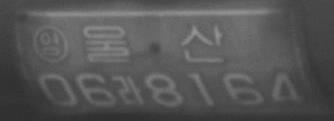0: (37, 71, 77, 108)
1: (184, 71, 217, 106)
4: (270, 70, 306, 106)
6: (222, 71, 265, 106), (78, 71, 116, 106)
8: (147, 72, 183, 107)
라: (116, 73, 146, 107)
영: (32, 23, 69, 64)
울산_D: (82, 22, 225, 62)
